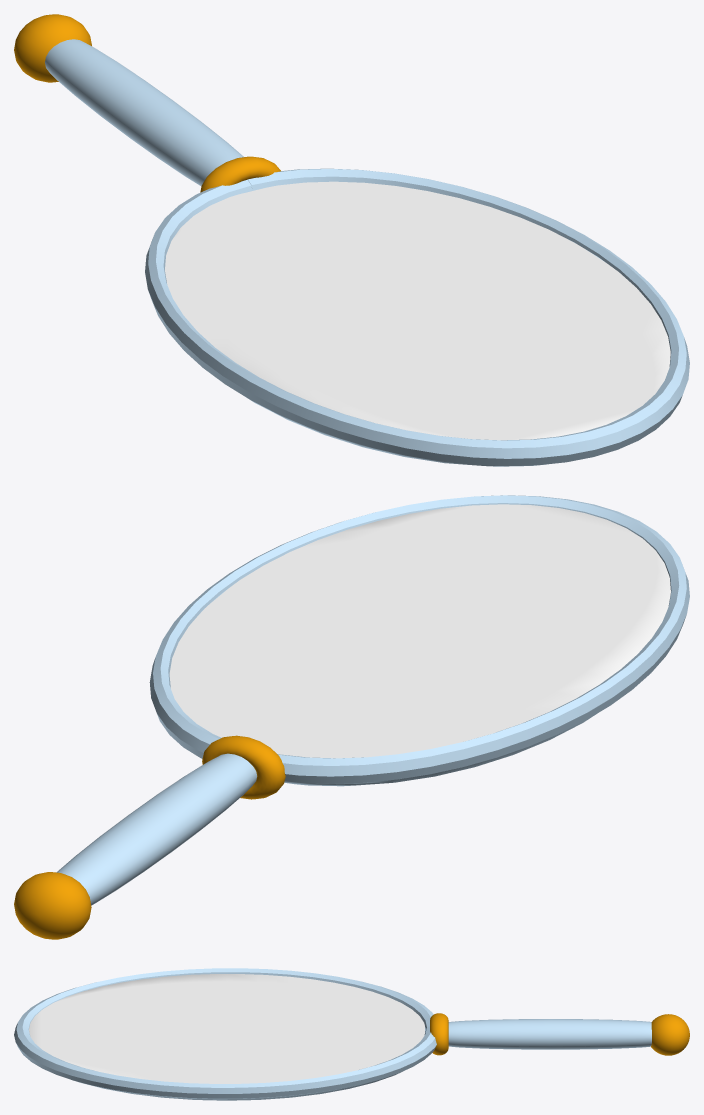
Rendered from GenericProp-CrackedMirror.fbx.
3 renders of one model, top to bottom at view 1: azimuth 30°, elevation 25°; view 2: azimuth 150°, elevation 25°; view 3: azimuth 270°, elevation 25°, orthographic. The views are drawn at different scales.
Parts seen in each view (by area): view 1: Mirror; view 2: Mirror; view 3: Mirror.
Boxes of the visible parts, x1,y1,x2,y2 form: Mirror: (14, 14, 689, 466); Mirror: (14, 495, 689, 939); Mirror: (14, 968, 689, 1100).
Bounding box in the file's own units: 24.73 × 3.98 × 58.61.
